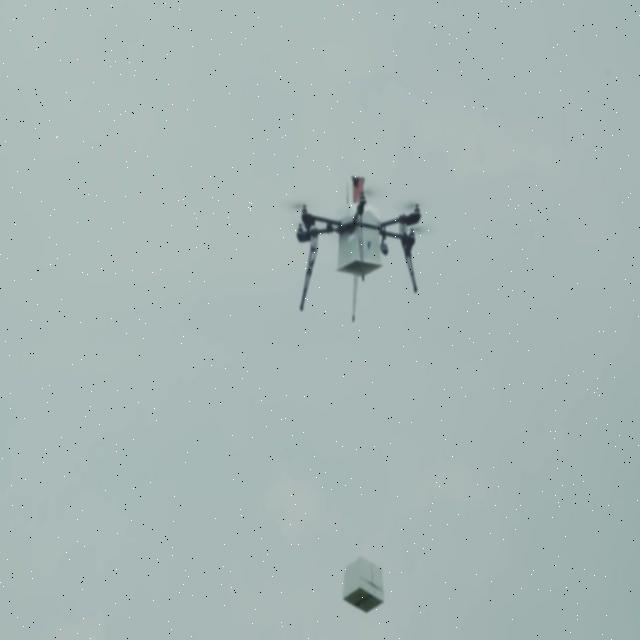UAV: (290, 175, 422, 323)
